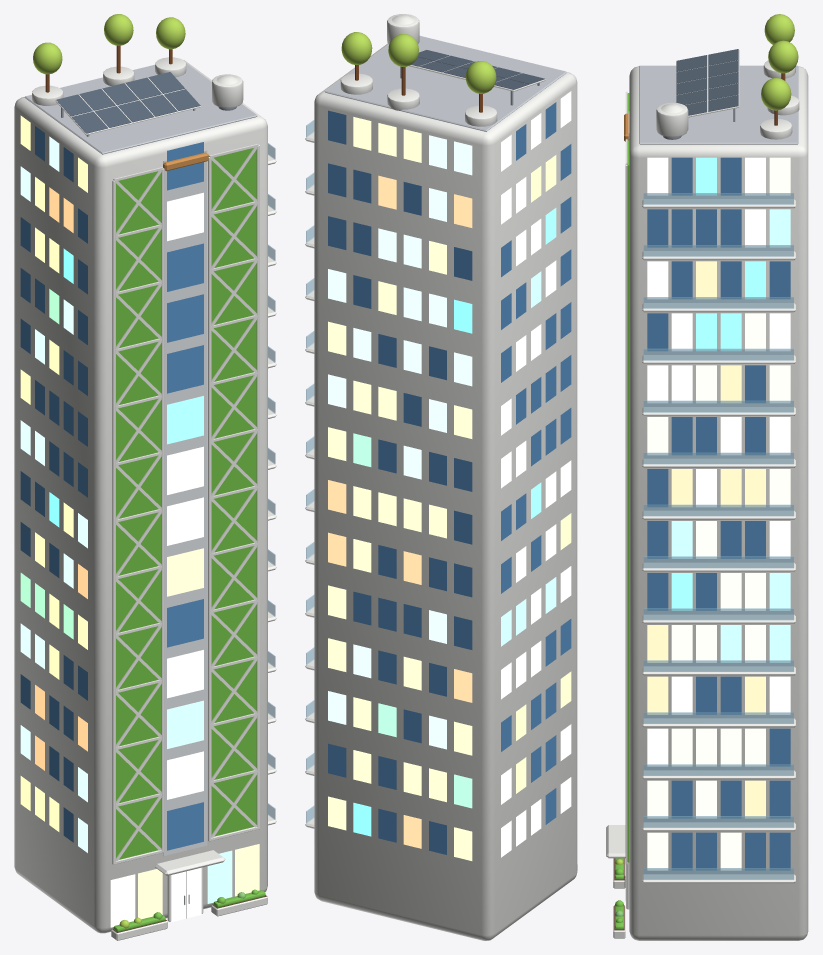
Rendered from predio_trelica_verde.glb.
3 renders of one model, left to right at view 1: azimuth 30°, elevation 25°; view 2: azimuth 150°, elevation 25°; view 3: azimuth 270°, elevation 25°, orthographic. The views are drawn at different scales.
Visible parts, largest first — view 1: predio_trelica_verde; view 2: predio_trelica_verde; view 3: predio_trelica_verde.
Boxes of the visible parts, x1,y1,x2,y2 form: predio_trelica_verde: (14, 14, 276, 940); predio_trelica_verde: (305, 14, 577, 940); predio_trelica_verde: (606, 14, 808, 940).
Size of the model in its own units: 12.23 by 53.24 by 11.33.
Materials: 8 (1 with a texture image).
